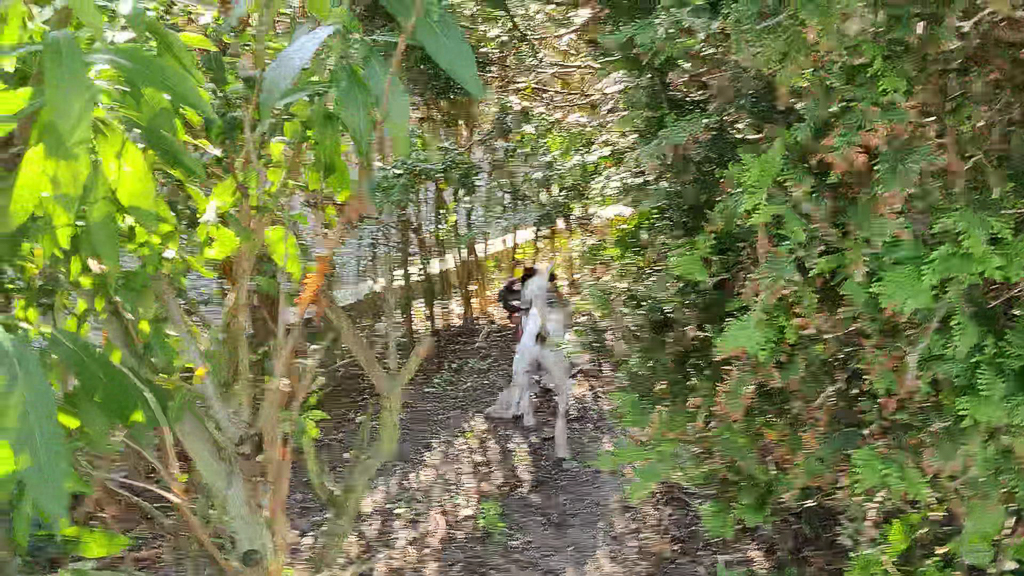Dog: (480, 243, 601, 470)
